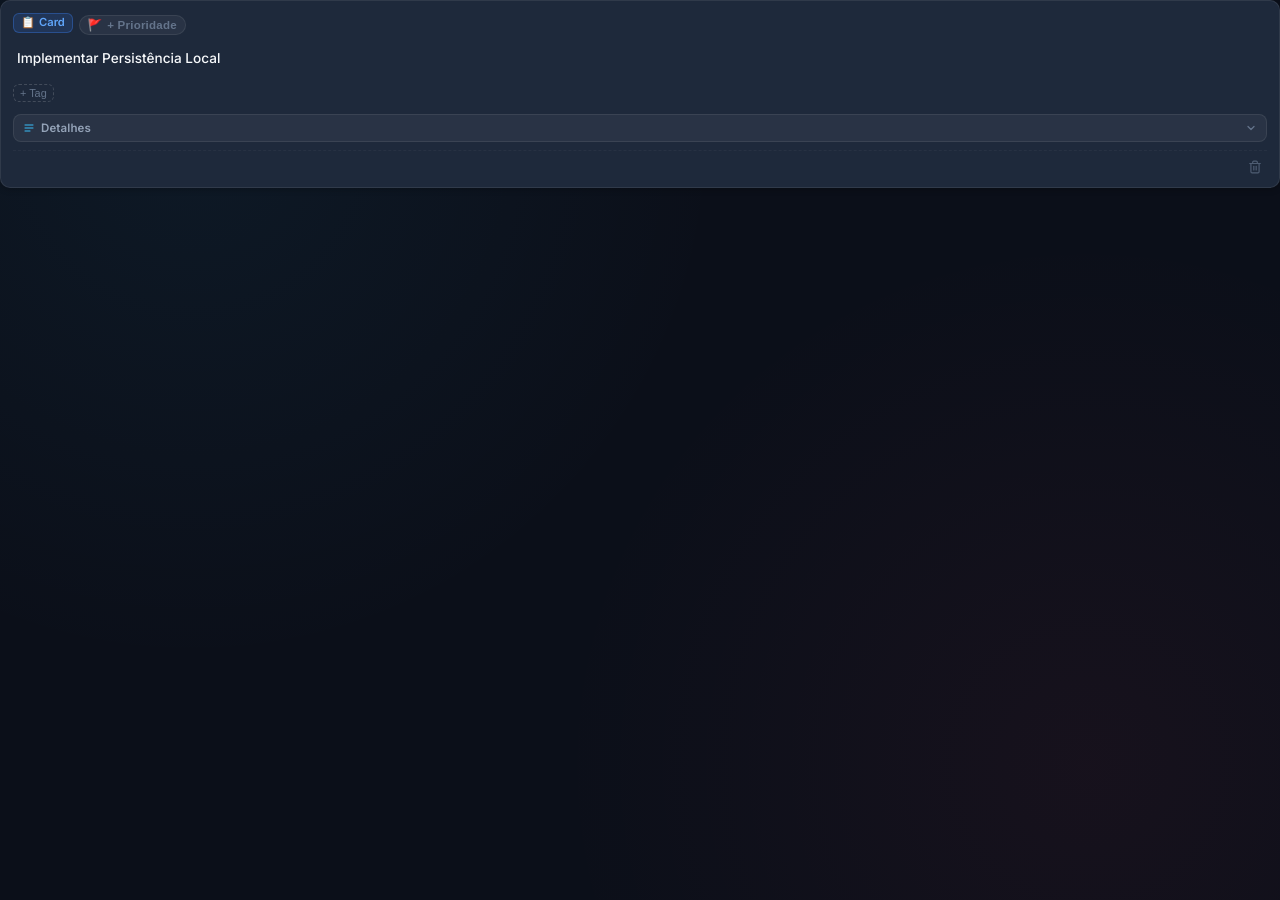
Task Component (US2 & US4) › allows expanding and collapsing QA section via toggle bar
Expected: the field labelled "Critérios de aceitação" is not shown
# Click toggle bar to expand
Click the button titled "Alternar critérios de aceitação e cenários de testes": coordinates (66, 128) [13,114,1267,142]
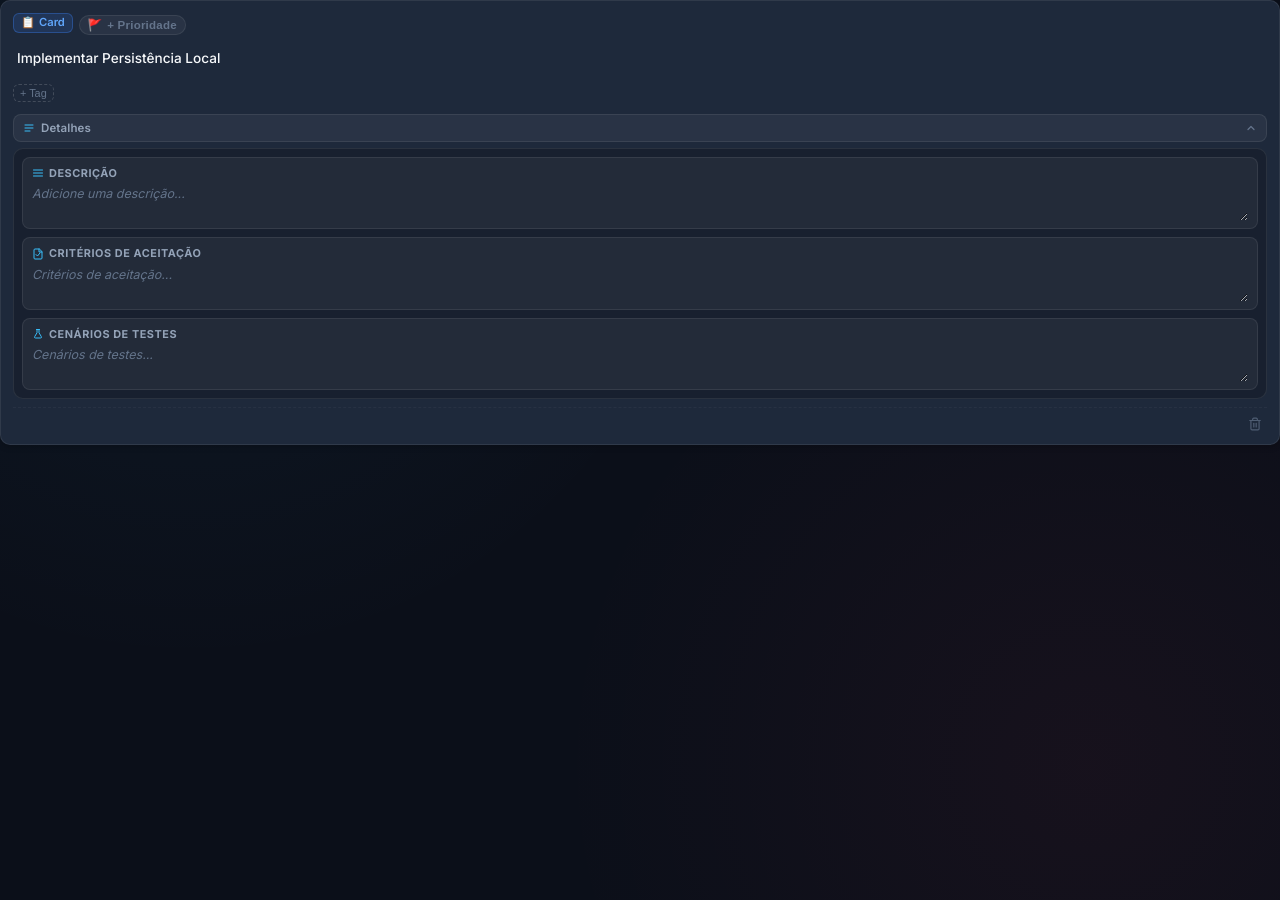
Expected: the text box labelled "Critérios de aceitação" is shown, [32,266,1248,302]
Expected: the text box labelled "Cenários de testes" is shown, [32,346,1248,382]
# Click again to collapse
Click the button titled "Alternar critérios de aceitação e cenários de testes": coordinates (66, 128) [13,114,1267,142]
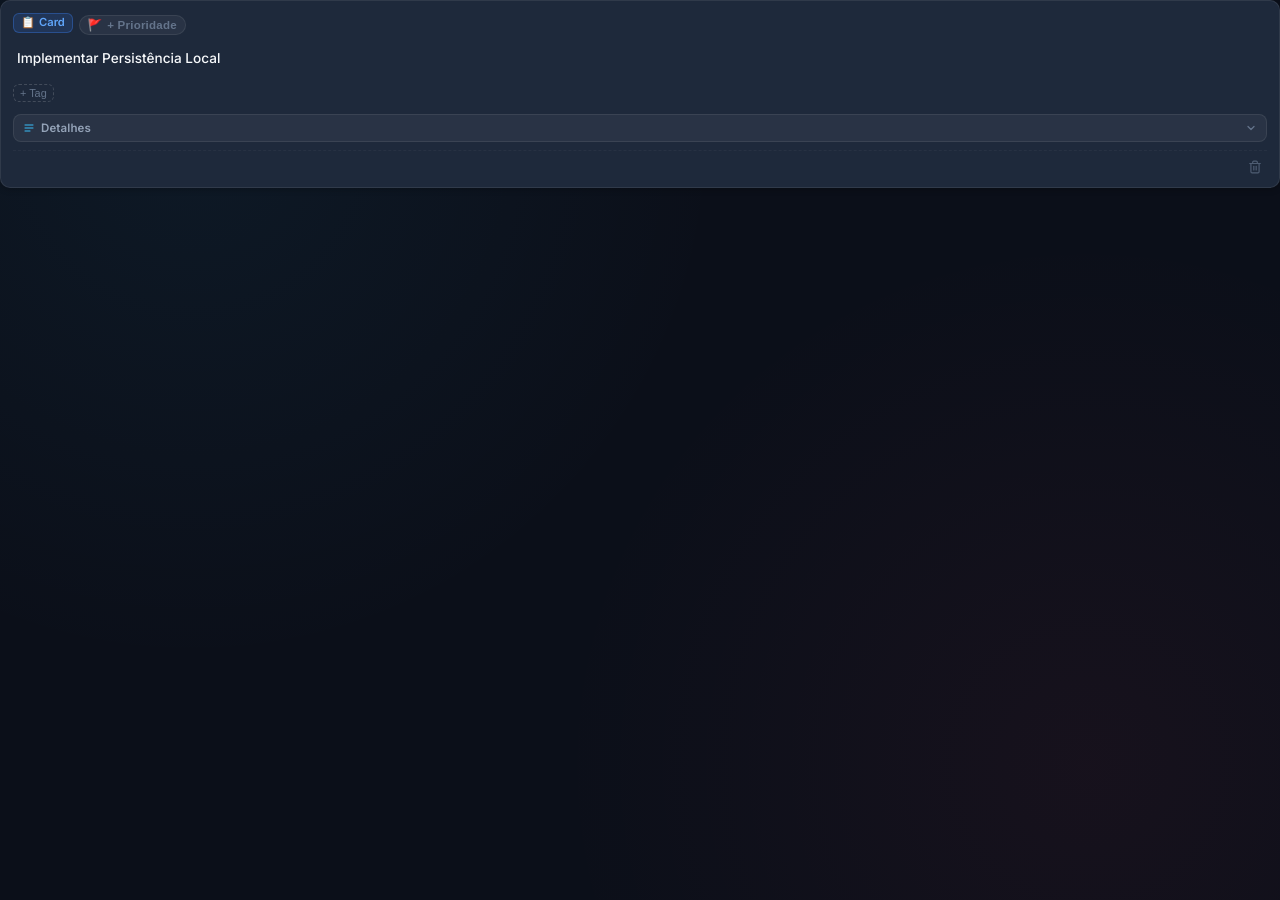
Expected: the field labelled "Critérios de Aceitação" is gone
